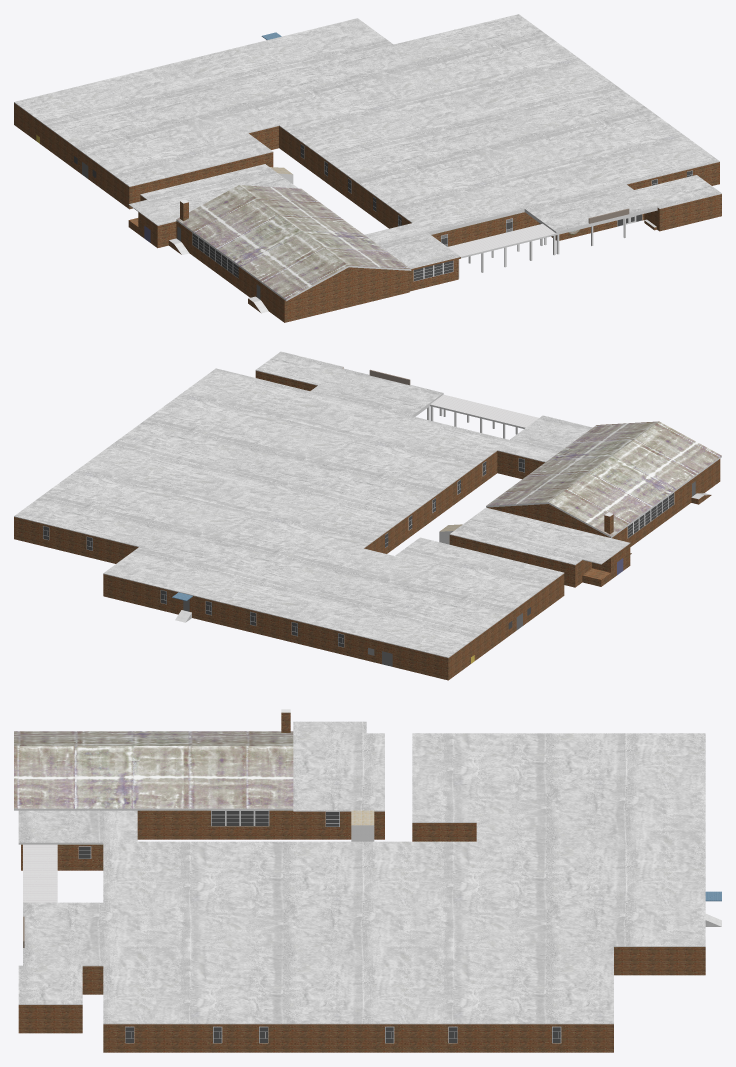
The model's file is hawkins_high_school.glb.
3 views of the same model, one above another, from view 1: azimuth 30°, elevation 25°; view 2: azimuth 150°, elevation 25°; view 3: azimuth 270°, elevation 25° (orthographic). The views are drawn at different scales.
Visible parts, largest first — view 1: Material2 (×6); view 2: Material2 (×6); view 3: Material2 (×6).
Boxes of the visible parts, x1,y1,x2,y2 form: Material2 (×6): (14,14,721,322); Material2 (×6): (14,351,721,680); Material2 (×6): (14,709,705,1052).
Bounding box in the file's own units: 3071 × 261 × 3043.
16 materials, 10 textured.
